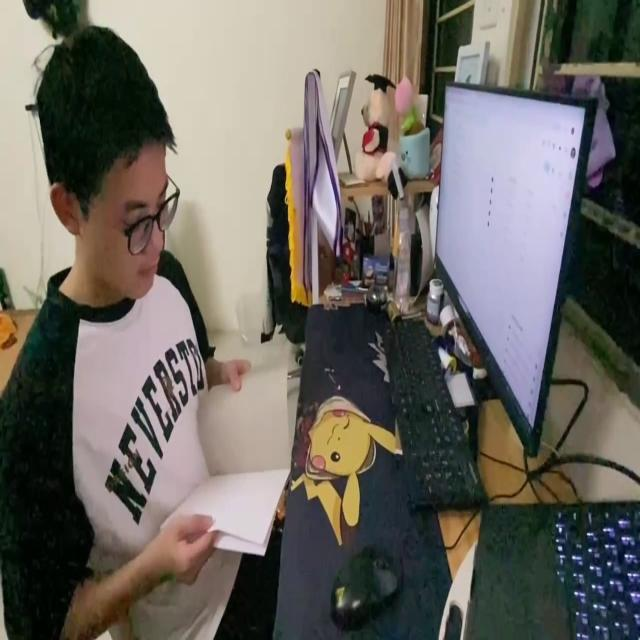book: (159, 355, 305, 561)
laptop: (432, 78, 601, 464), (460, 492, 640, 640)
student: (0, 21, 278, 640)
